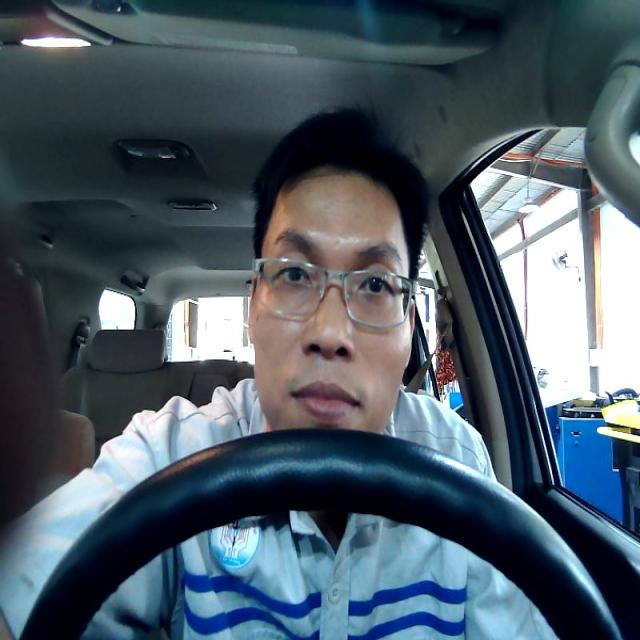focused: (247, 165, 414, 428)
